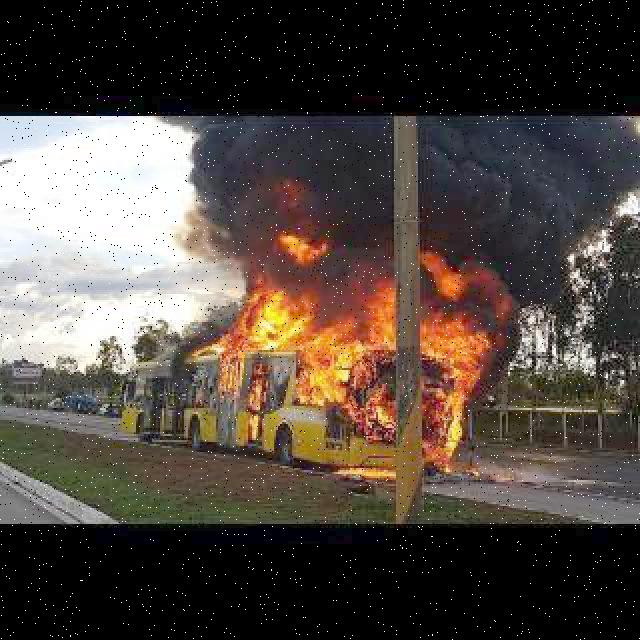fire: (219, 278, 495, 462)
smoke: (166, 115, 640, 302)
